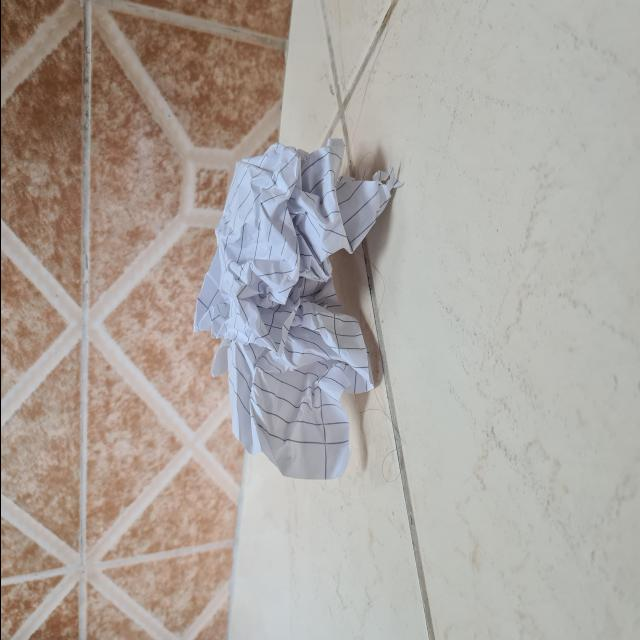kertas: (196, 144, 388, 484)
